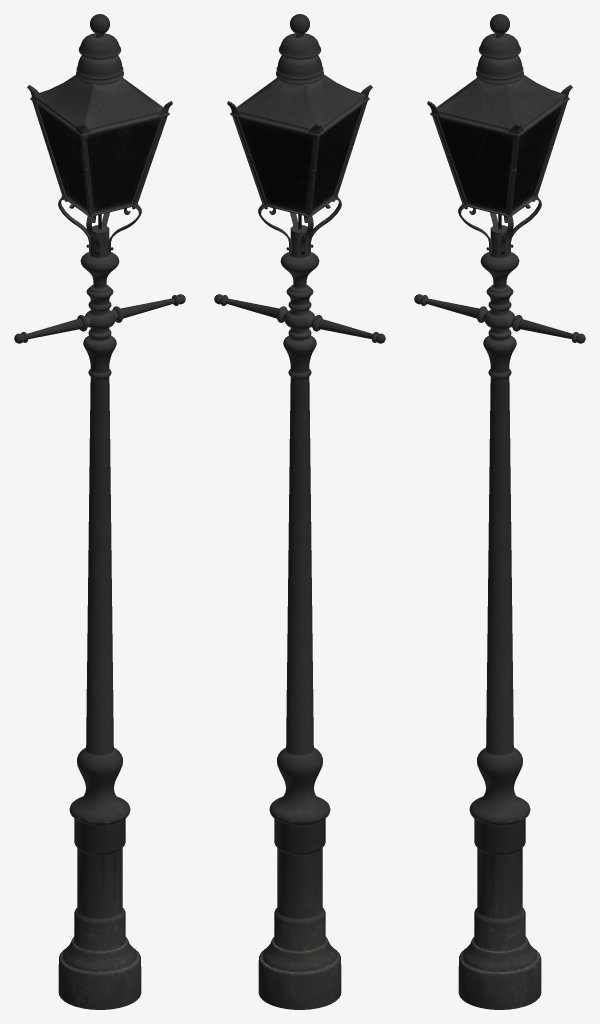
File: street-lamp.glb
3 views of the same model, side by side, from view 1: azimuth 30°, elevation 25°; view 2: azimuth 150°, elevation 25°; view 3: azimuth 330°, elevation 25° (orthographic).
Parts seen in each view (by area): view 1: street_lamp_01; view 2: street_lamp_01; view 3: street_lamp_01.
Boxes of the visible parts, x1,y1,x2,y2 form: street_lamp_01: [14, 14, 185, 1009]; street_lamp_01: [214, 14, 385, 1009]; street_lamp_01: [414, 14, 585, 1009].
Bounding box in the file's own units: 0.7097 × 3.9 × 0.3894.
3 materials, 3 textured.
